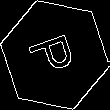P_E: (26, 29, 84, 81)
